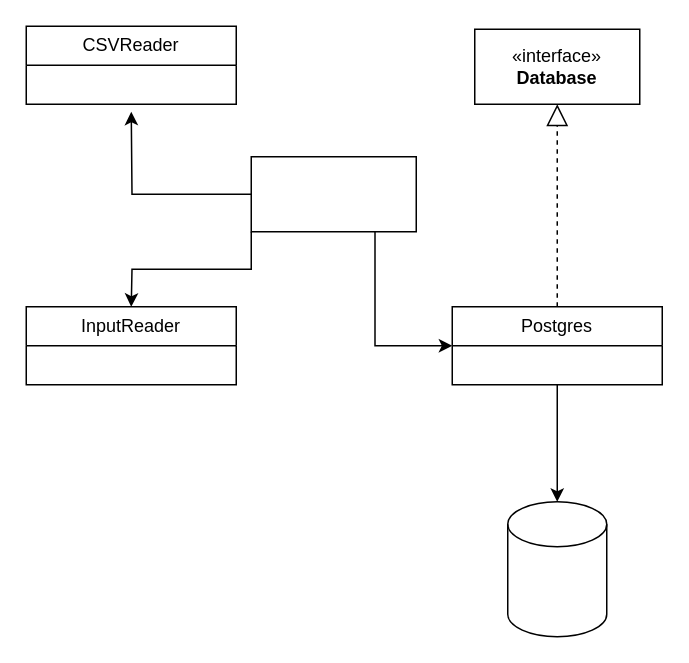
This 689x663 diagram has some shape labels left out. The shapes that lost their labels are listed below. From the top down, each one's box as (x1, y1, x2, y2) in pixels, then its label:
(250, 155, 416, 232): Main
(506, 500, 607, 637): SQL Database
